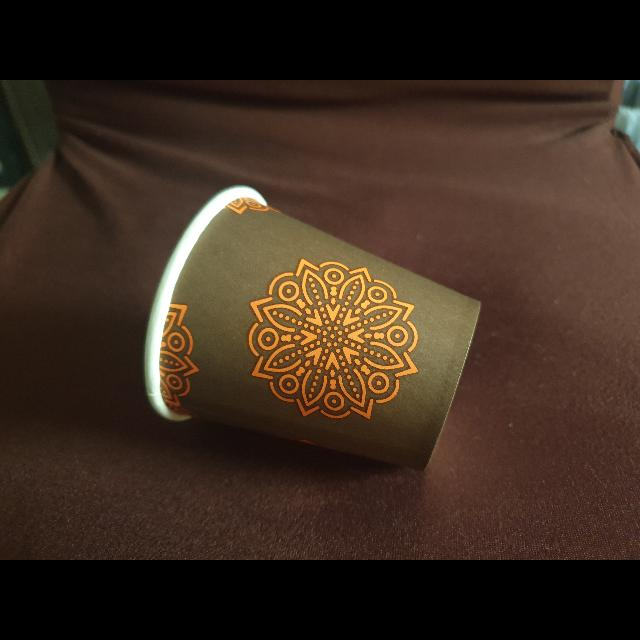trash: (131, 178, 499, 484)
